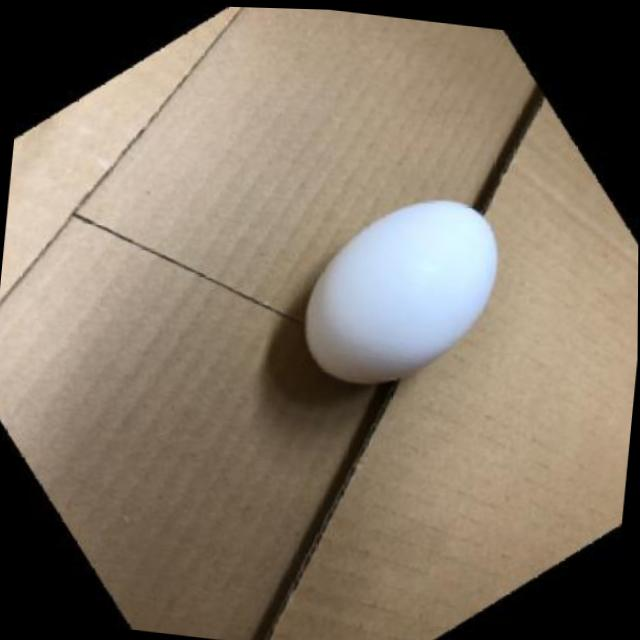egg: (292, 178, 509, 406)
